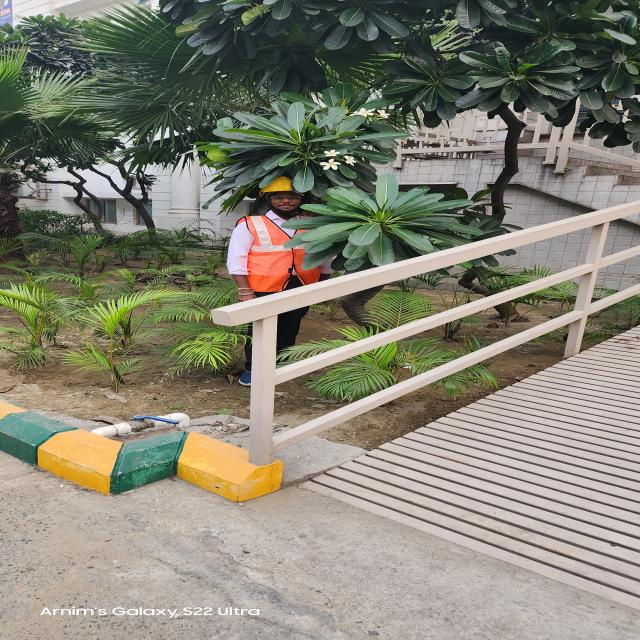safe: (226, 171, 313, 381)
